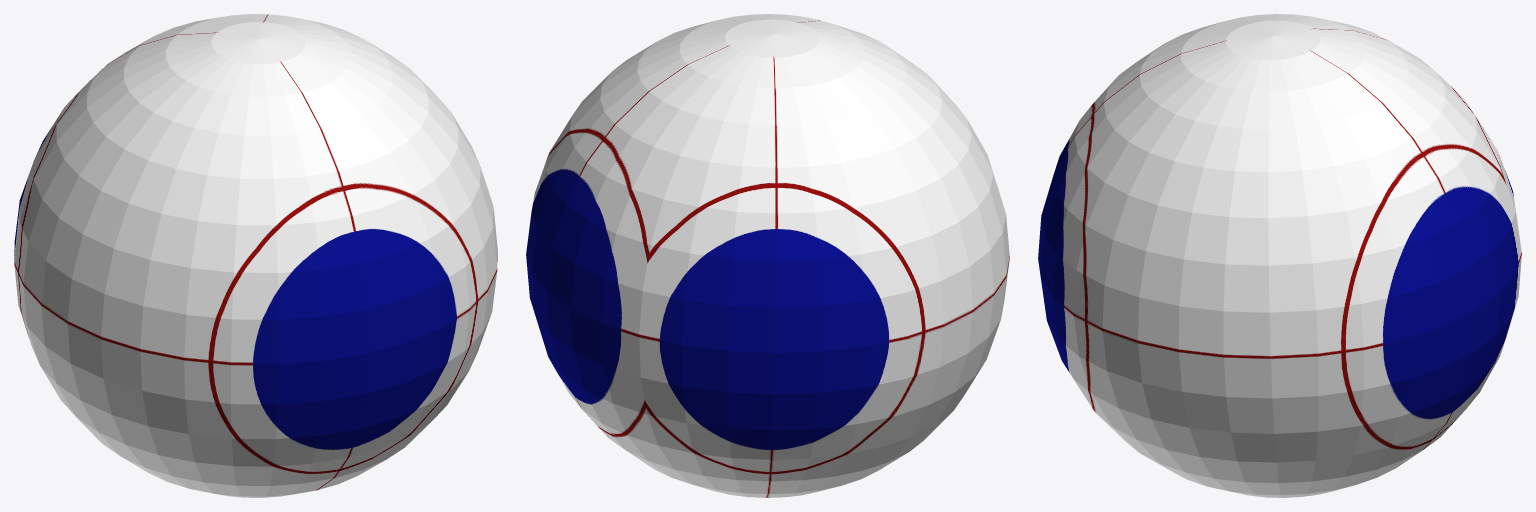
The model's file is Eye.obj.
3 views of the same model, side by side, from view 1: azimuth 30°, elevation 25°; view 2: azimuth 150°, elevation 25°; view 3: azimuth 270°, elevation 25° (orthographic).
Visible parts, largest first — view 1: Sphere_Sphere.001; view 2: Sphere_Sphere.001; view 3: Sphere_Sphere.001.
Boxes of the visible parts, x1=… form: Sphere_Sphere.001: x1=14, y1=14, x2=497, y2=497; Sphere_Sphere.001: x1=526, y1=14, x2=1009, y2=497; Sphere_Sphere.001: x1=1038, y1=14, x2=1521, y2=497.
Size of the model in its own units: 4.83 by 4.83 by 4.82.
